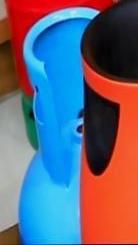cylinder: (1, 1, 138, 245)
